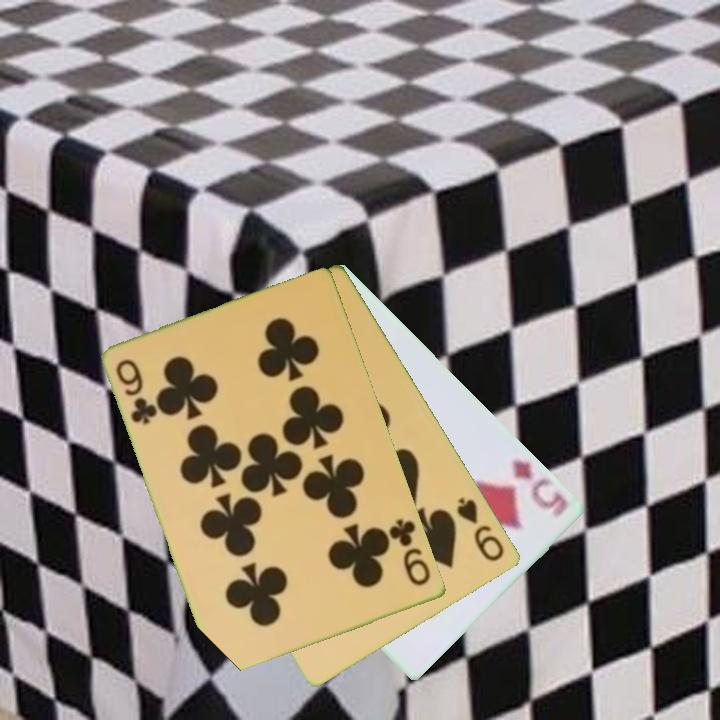5d: (508, 455, 572, 521)
9c: (385, 515, 434, 589), (113, 355, 160, 428)
9s: (453, 494, 508, 565)
